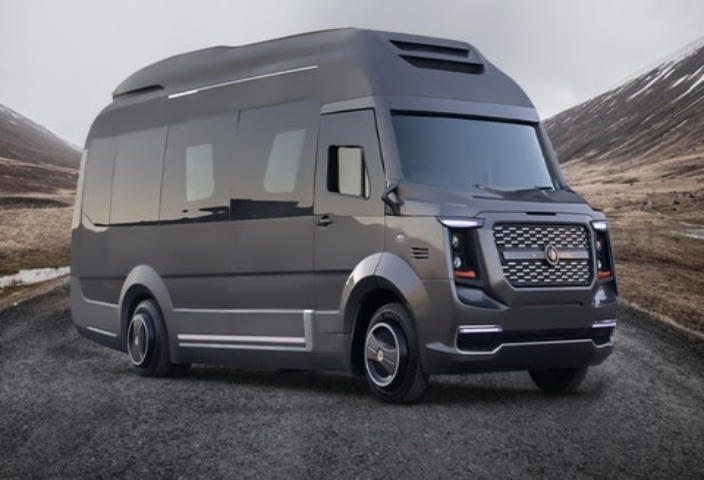van: (19, 25, 642, 422)
